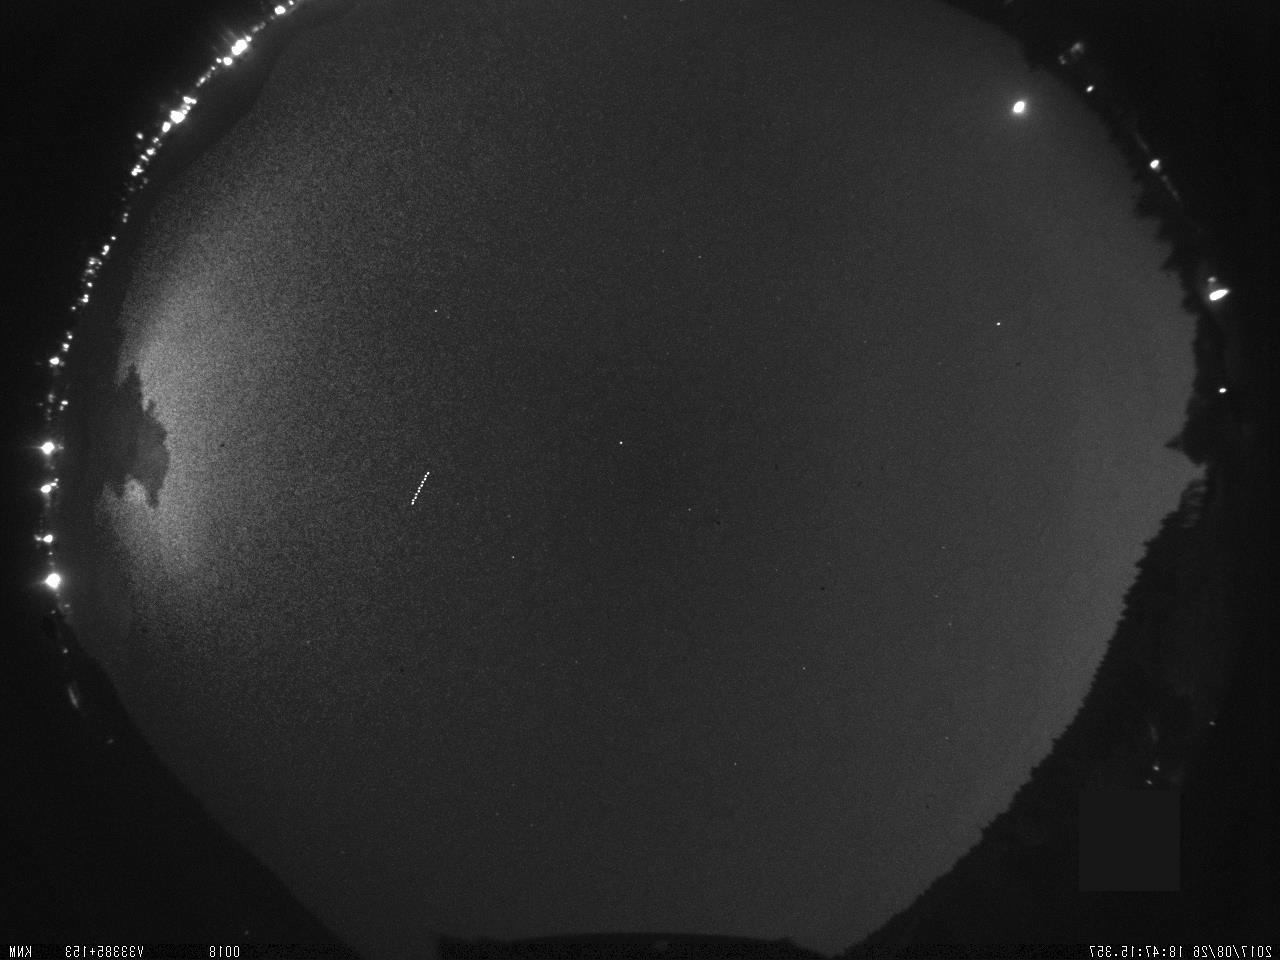satelite: (401, 465, 437, 507)
